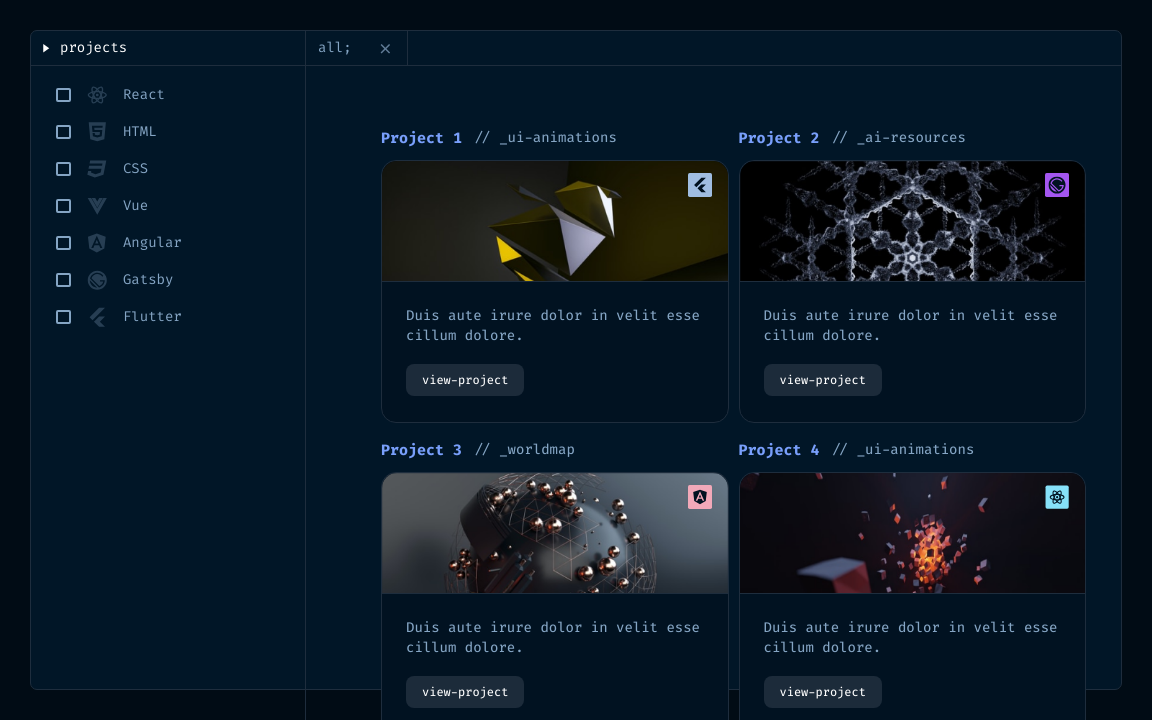
Scenario: projects page › shows the empty state when no project matches
Click the checkbox labelled "HTML".
click(63, 132)  # box 56,124 -> 71,139
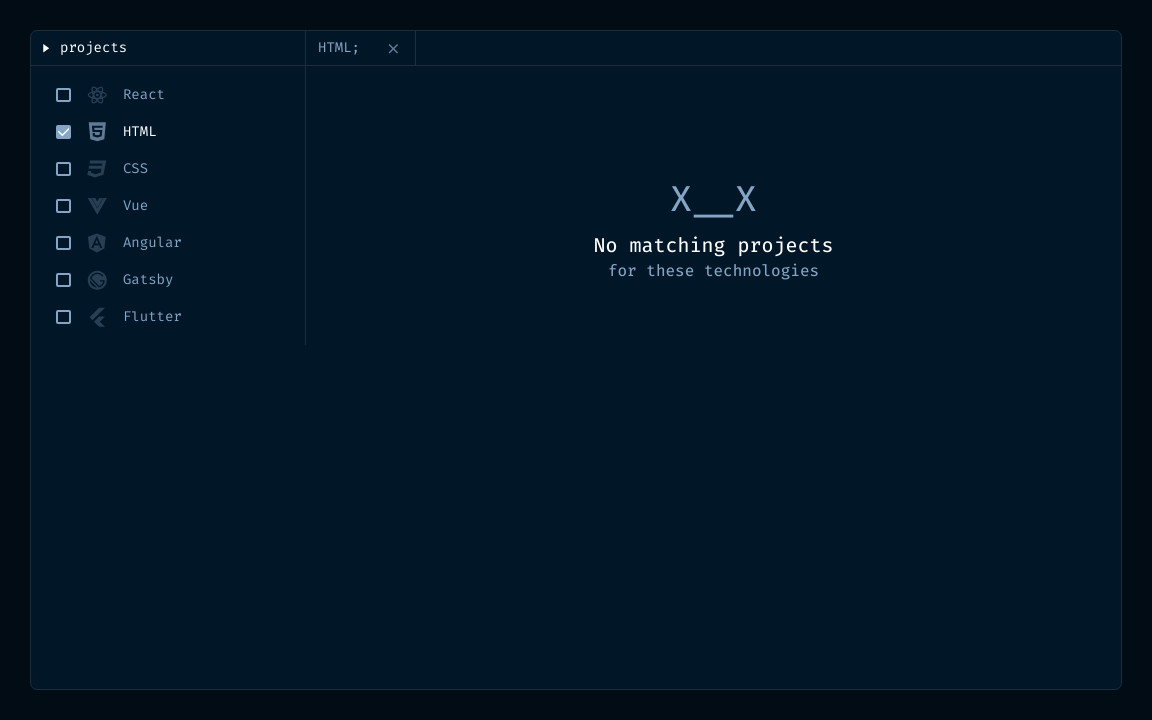
Expected: no links are shown
